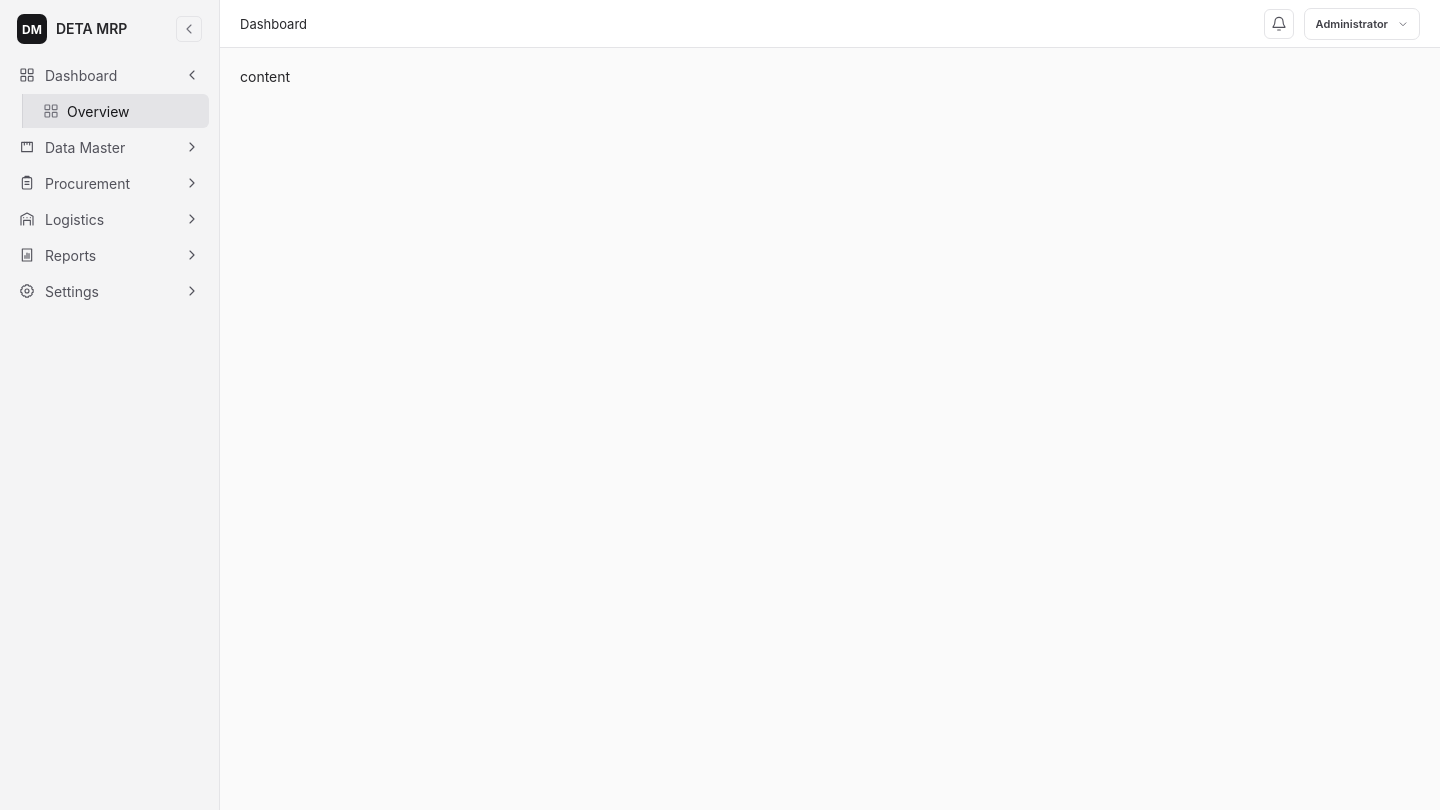
Scenario: AppShell › opens the user menu with the authenticated username
Expected: the text "Administrator" is shown, top-left (1316, 16), bottom-right (1388, 30)
Expected: the icon with class "dropdown-chevron" is shown, top-left (1396, 16), bottom-right (1410, 30)
Click the button with aria-label "Open user menu".
click(1362, 24)  # box top-left (1304, 8), bottom-right (1420, 40)
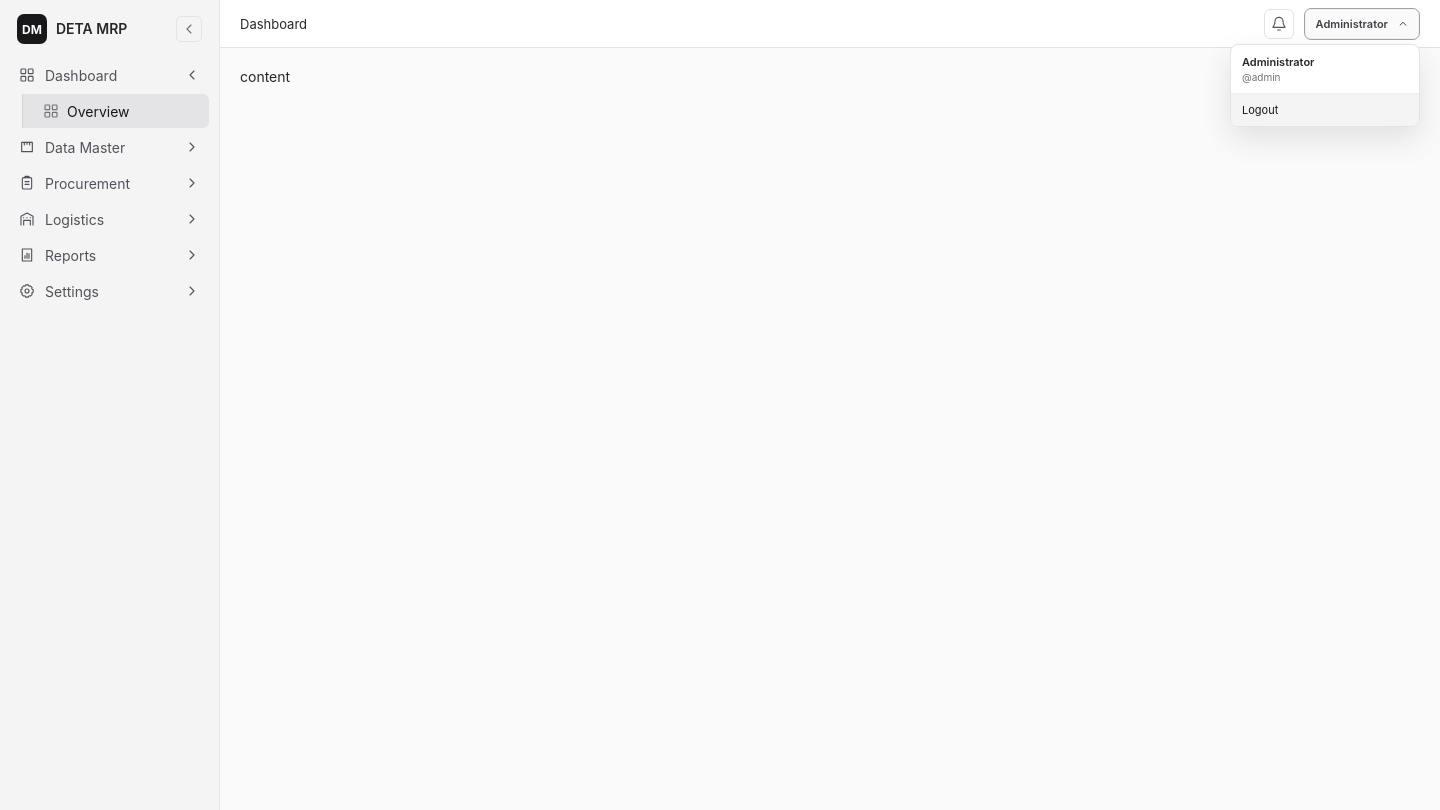
Expected: the dialog named "User menu" is shown, top-left (1230, 44), bottom-right (1420, 126)
Expected: the text "@admin" is shown, top-left (1242, 70), bottom-right (1280, 82)
